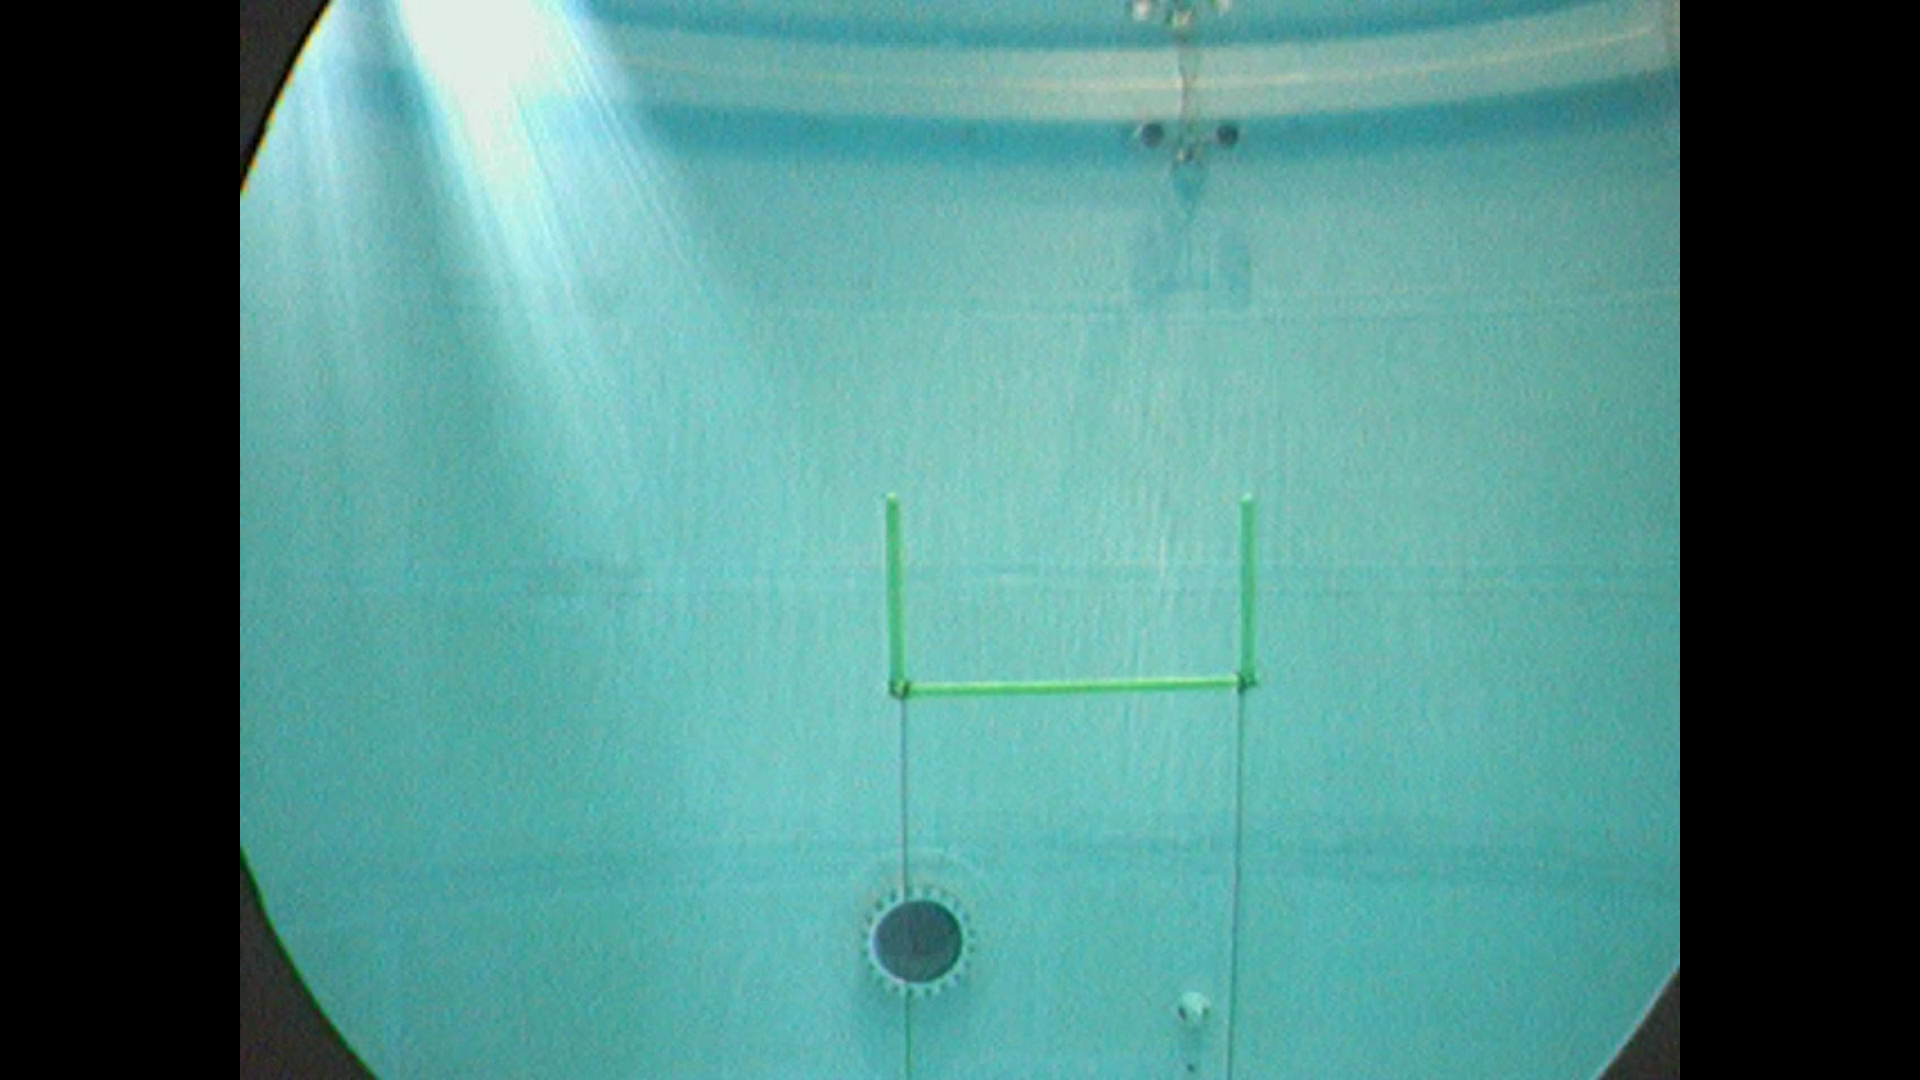gate: (882, 484, 1262, 709)
